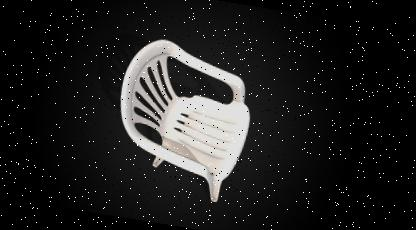chair: (100, 29, 264, 206)
